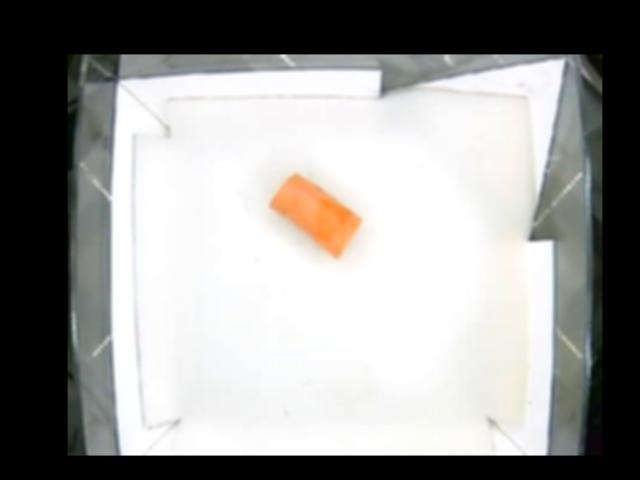Carrot: (267, 169, 361, 258)
